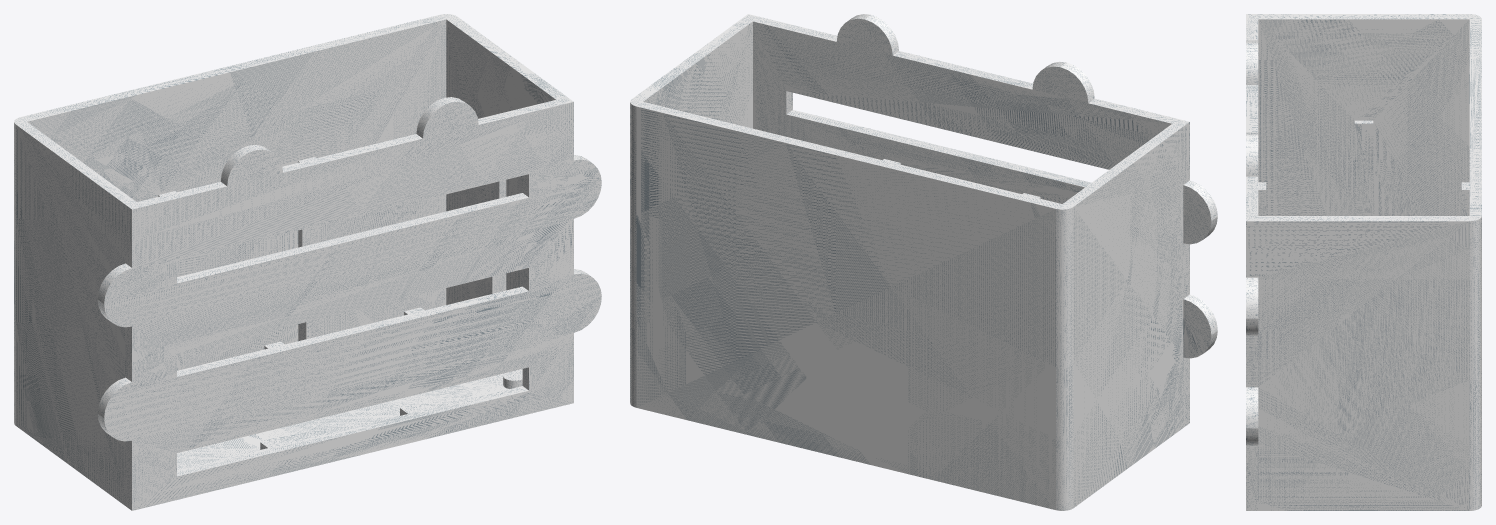
Rendered from Grouper_1.dae.
3 renders of one model, left to right at view 1: azimuth 30°, elevation 25°; view 2: azimuth 150°, elevation 25°; view 3: azimuth 270°, elevation 25°, orthographic. The views are drawn at different scales.
Parts seen in each view (by area): view 1: SketchUp (×2); view 2: SketchUp (×2); view 3: SketchUp.
Boxes of the visible parts, box(x1,y1,x2,y2) form: SketchUp (×2): box(14, 14, 601, 510); SketchUp (×2): box(630, 14, 1217, 510); SketchUp: box(1246, 14, 1481, 510).
Bounding box in the file's own units: 7.01 × 2.99 × 4.45.
